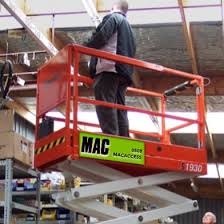Scissor Lift: (32, 42, 210, 224)
